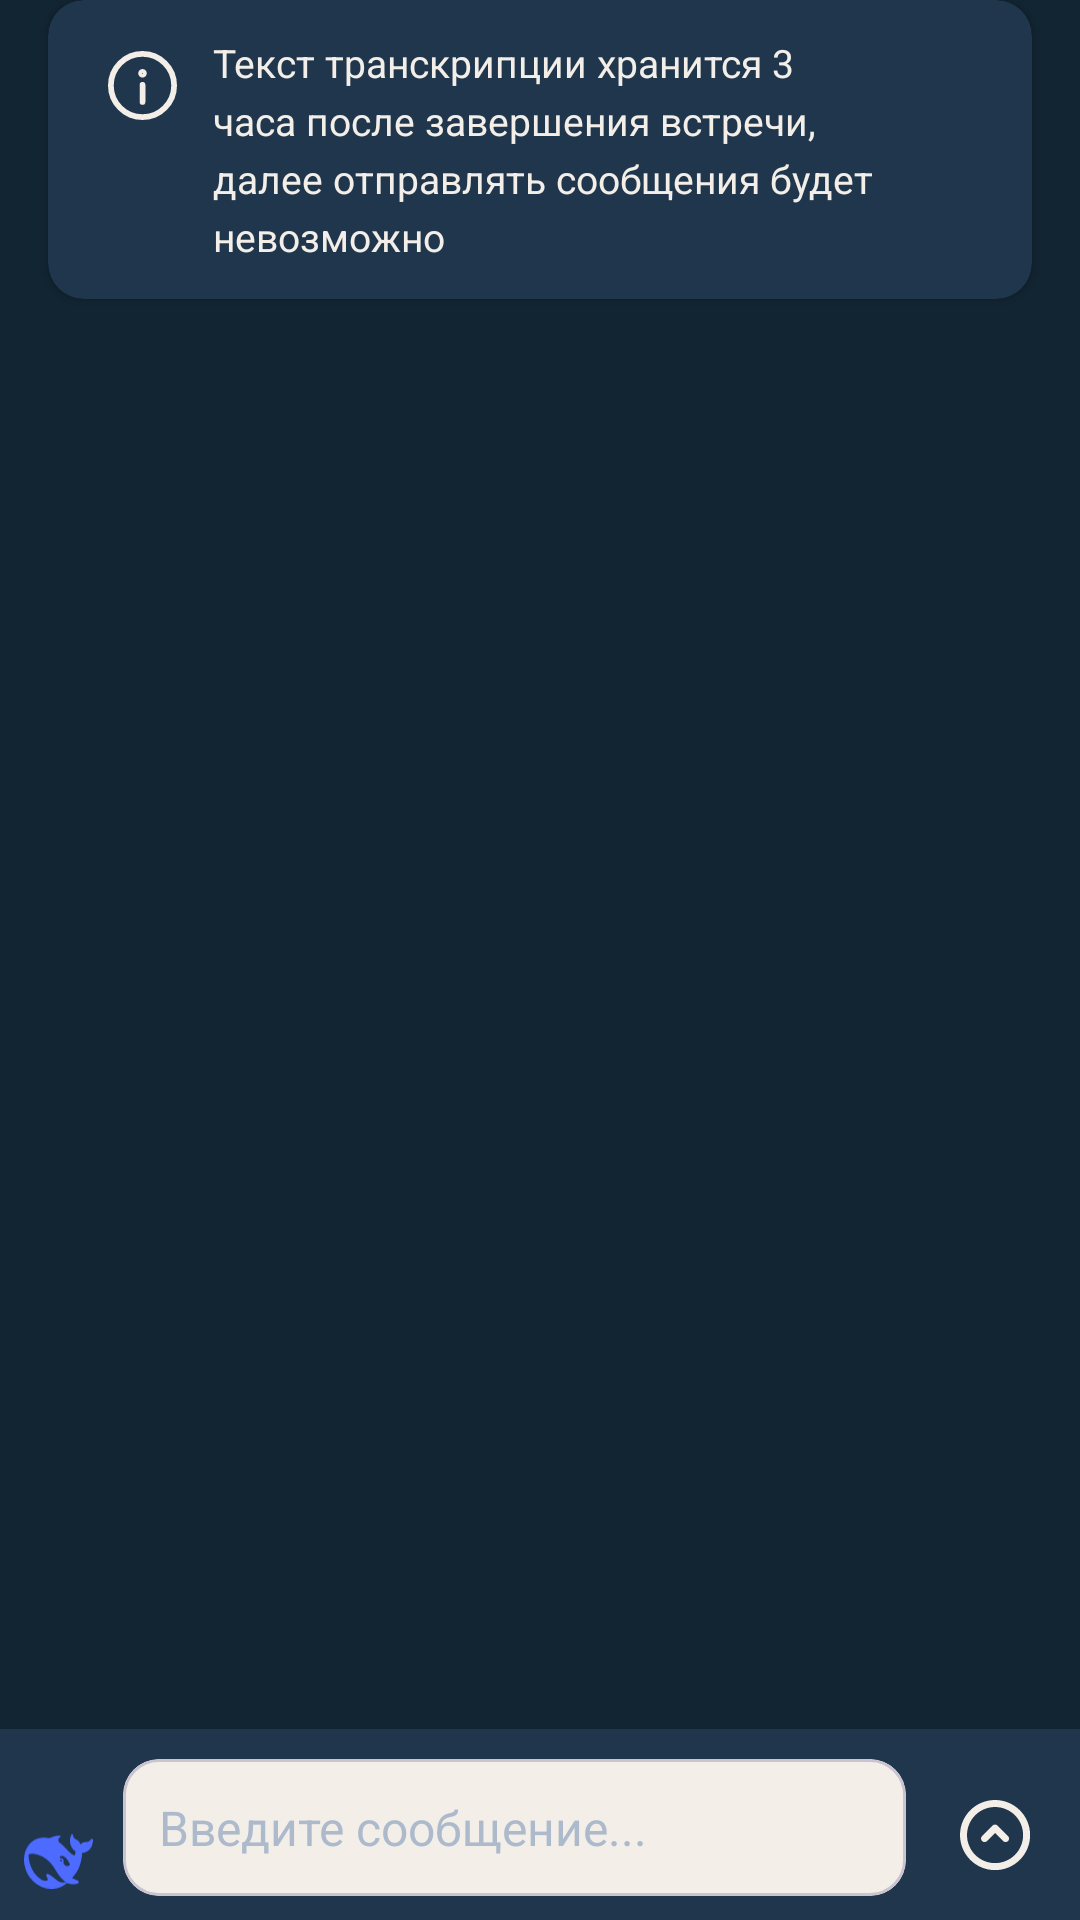

Locate icon controls on the screen. Image size 1080 × 1920, boxes as (x1, y1, x2, y2).
info: (108, 51, 177, 120)
Отправить: (960, 1800, 1030, 1870)
